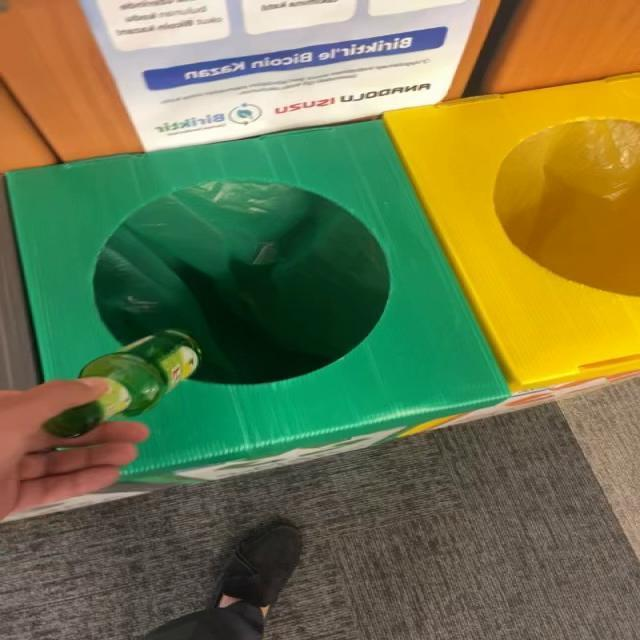Glass: (43, 330, 200, 438)
